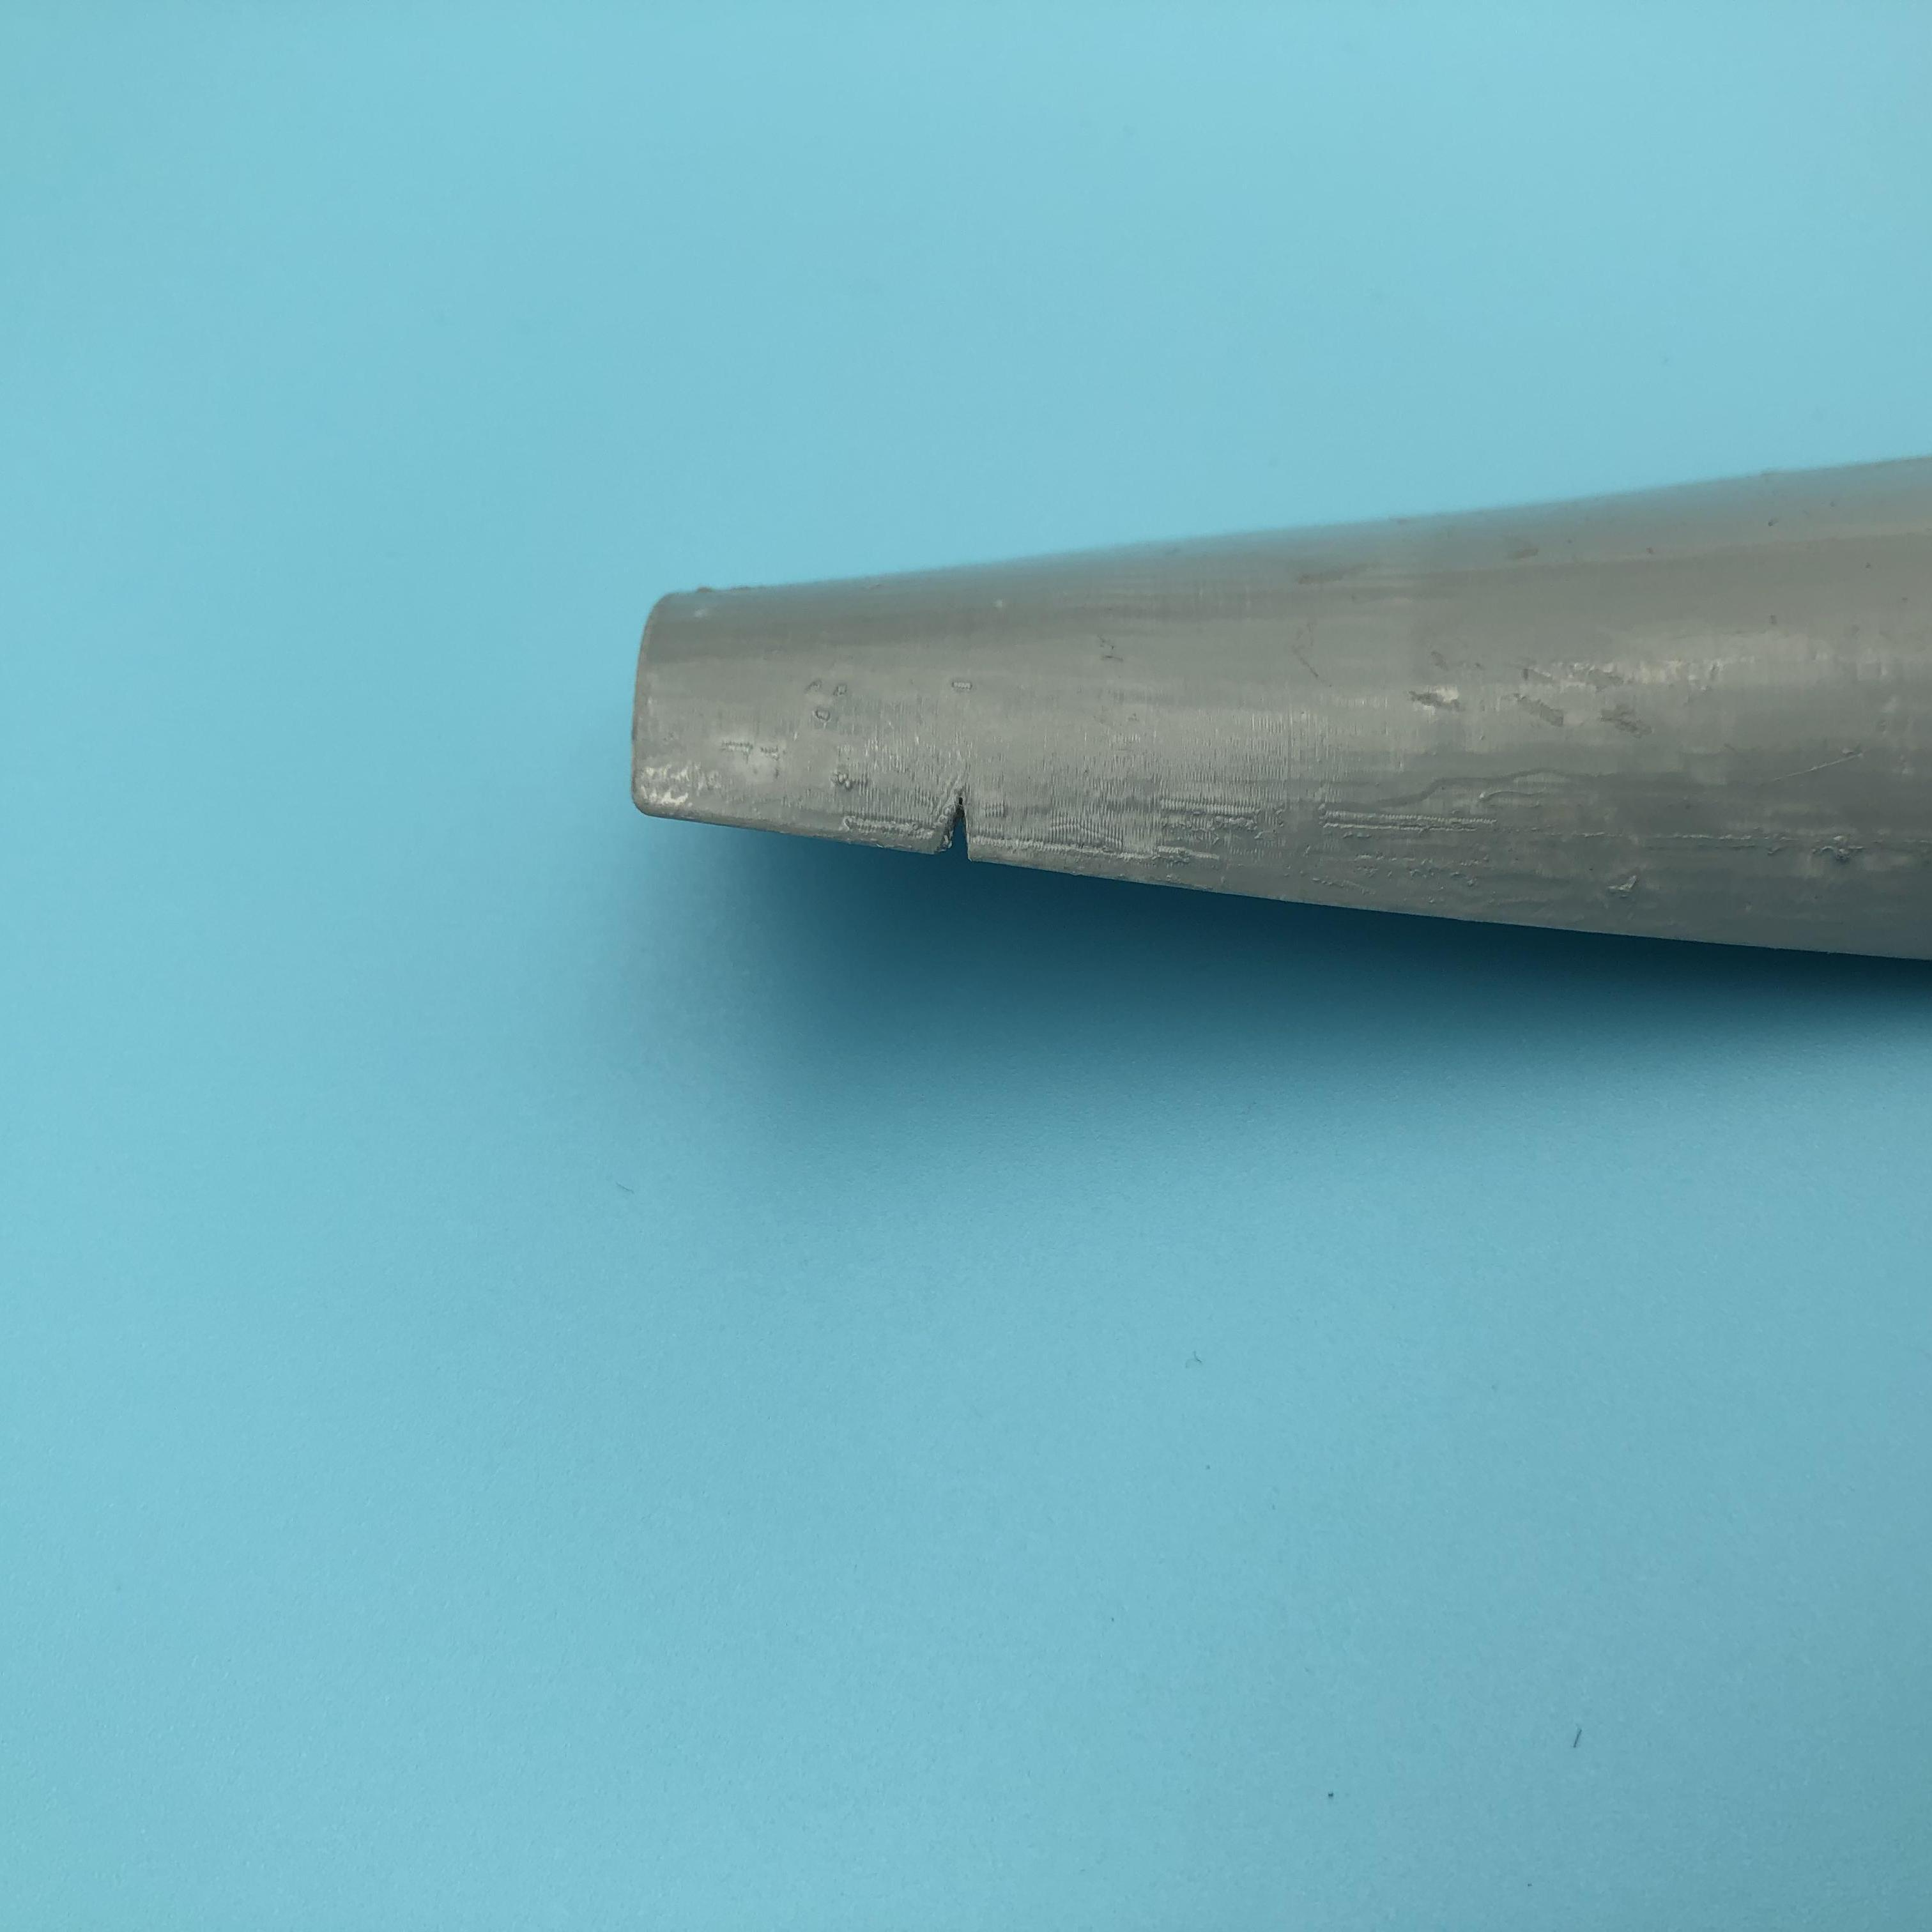groove: (925, 786, 998, 860)
